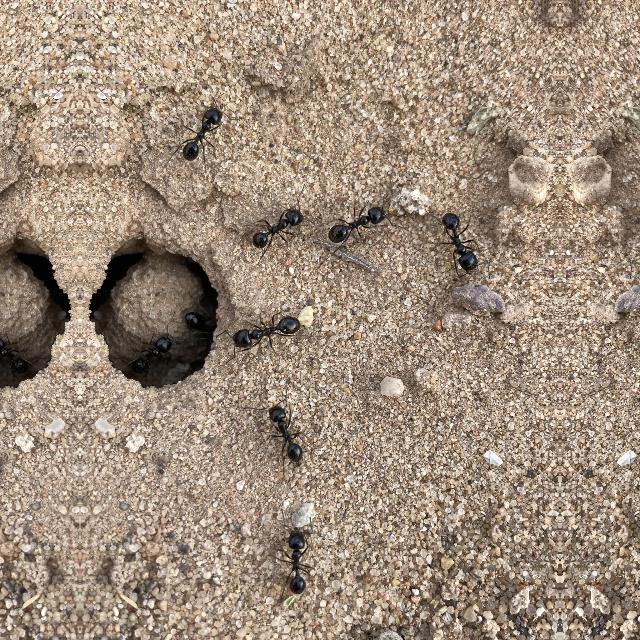Messor: (270, 509, 316, 597), (260, 401, 310, 477), (117, 326, 175, 384), (249, 193, 303, 254), (323, 196, 391, 244), (232, 304, 296, 354), (170, 104, 224, 158), (441, 204, 483, 272), (0, 326, 43, 384), (175, 297, 217, 345)
